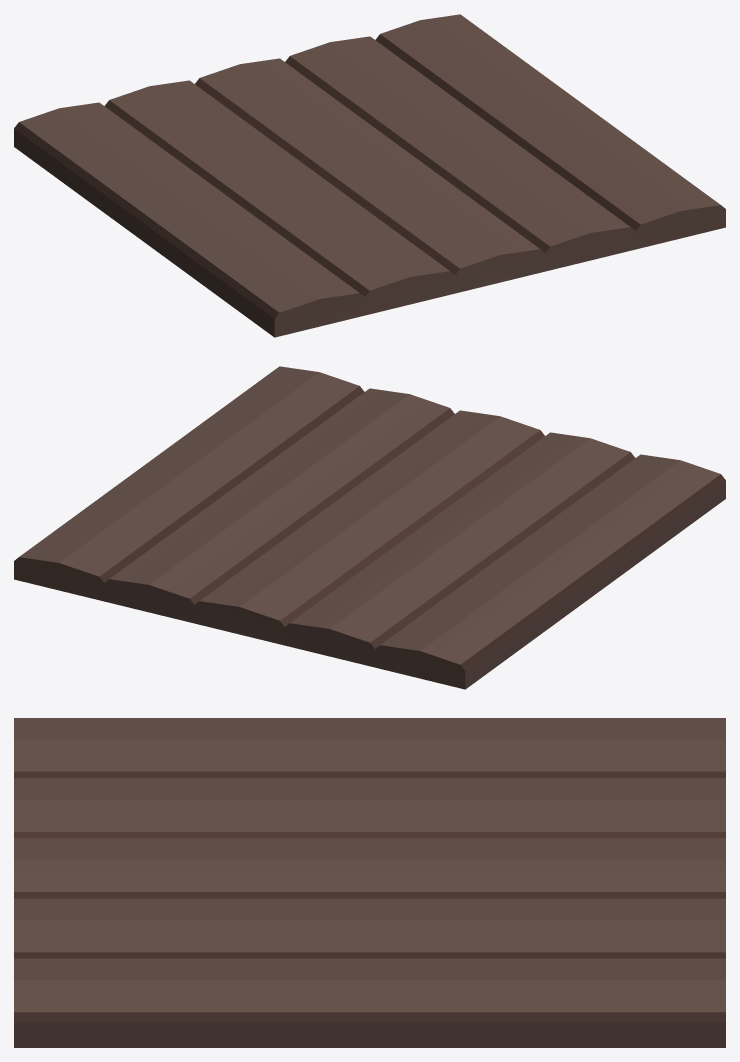
The model's file is chaoMadeira_Lab_varianteDois_LoPo.fbx.
3 renders of one model, top to bottom at view 1: azimuth 30°, elevation 25°; view 2: azimuth 150°, elevation 25°; view 3: azimuth 270°, elevation 25°, orthographic. The views are drawn at different scales.
Visible parts, largest first — view 1: chaoMadeira_Lab_varianteDois_LoPo; view 2: chaoMadeira_Lab_varianteDois_LoPo; view 3: chaoMadeira_Lab_varianteDois_LoPo.
Part boxes in pixels (x1,y1,x2,y2): chaoMadeira_Lab_varianteDois_LoPo: (14, 14, 725, 337); chaoMadeira_Lab_varianteDois_LoPo: (14, 366, 725, 689); chaoMadeira_Lab_varianteDois_LoPo: (14, 718, 725, 1047).
Size of the model in its own units: 200 by 11.69 by 200.
